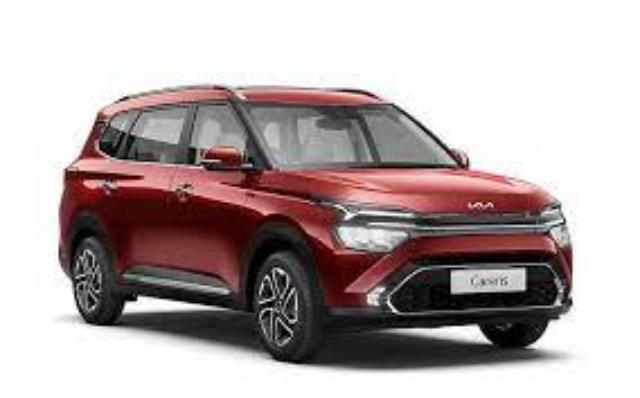kia: (59, 84, 574, 364)
